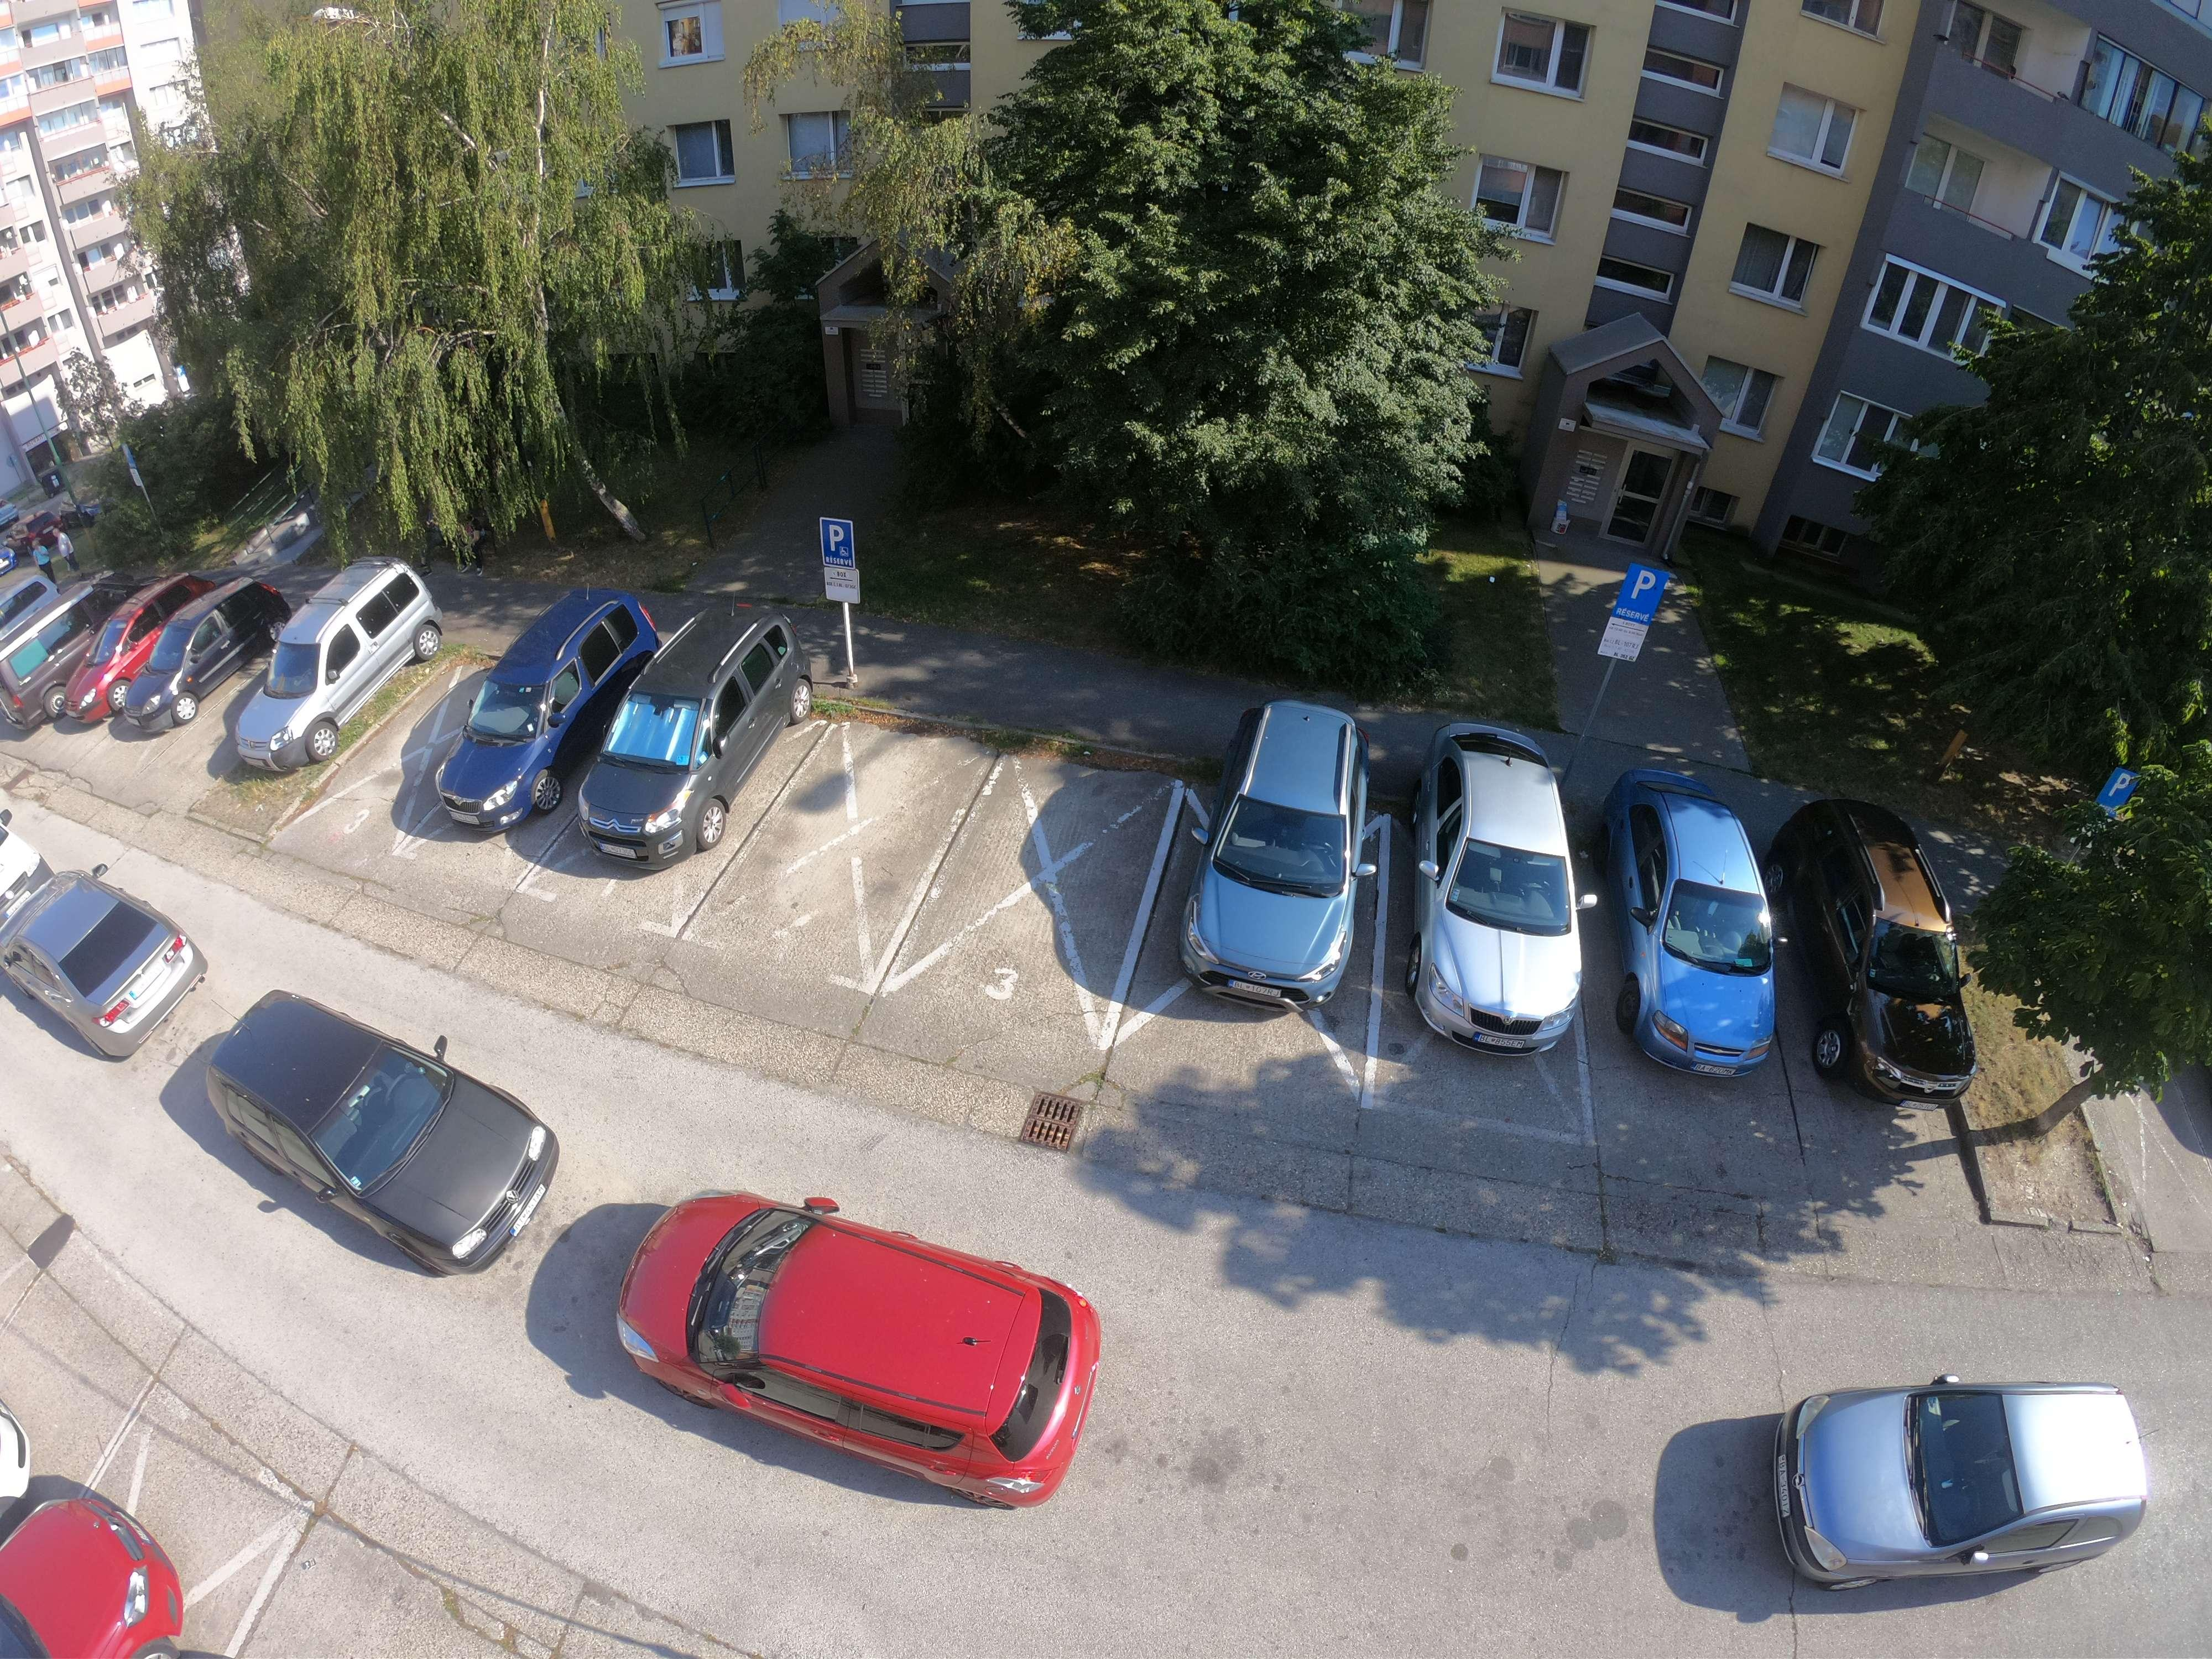empty: (599, 1195, 1132, 1485), (1745, 1356, 2170, 1589), (214, 1002, 563, 1258), (1153, 702, 1404, 1006), (1395, 732, 1616, 1053), (1796, 819, 1994, 1108), (1606, 788, 1801, 1079), (570, 617, 784, 875), (423, 601, 637, 843), (225, 563, 441, 786), (0, 1391, 146, 1657), (0, 850, 202, 1040), (87, 580, 272, 744), (2, 570, 150, 728)
occupied: (1202, 1288, 1695, 1542), (754, 744, 920, 918), (970, 814, 1113, 967), (319, 706, 448, 826)
